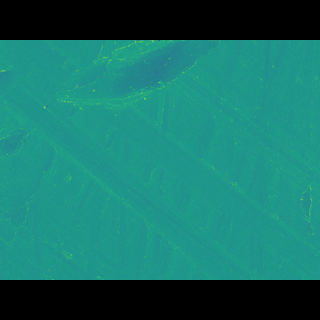Loch: (0, 70, 320, 249), (51, 68, 225, 125), (0, 88, 49, 161), (288, 174, 319, 218)
